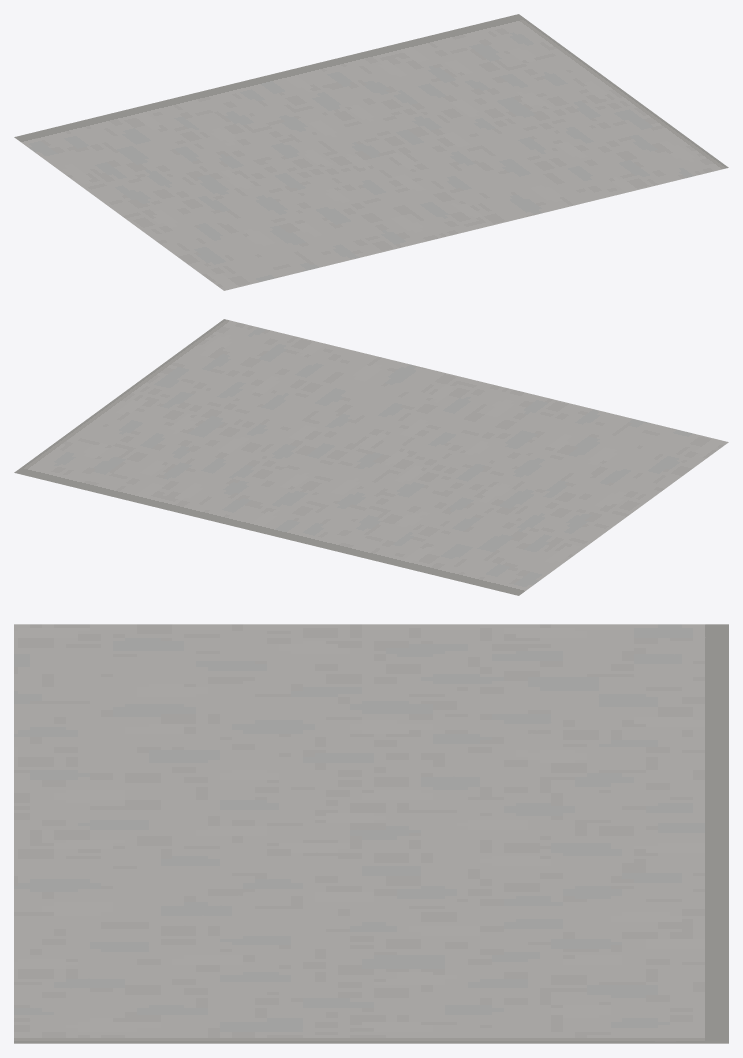
File: kd_stage_135d18_4_131_bounded_piece_6.glb
The picture shows the model from 3 angles, top to bottom: view 1: azimuth 30°, elevation 25°; view 2: azimuth 150°, elevation 25°; view 3: azimuth 270°, elevation 25°; orthographic projection. The views are drawn at different scales.
Visible parts, largest first — view 1: kd_stage_135d18_4_131_bounded_piece_6; view 2: kd_stage_135d18_4_131_bounded_piece_6; view 3: kd_stage_135d18_4_131_bounded_piece_6.
Boxes of the visible parts, left/top/right/bottom form: kd_stage_135d18_4_131_bounded_piece_6: left=14, top=14, right=728, bottom=290; kd_stage_135d18_4_131_bounded_piece_6: left=14, top=319, right=728, bottom=595; kd_stage_135d18_4_131_bounded_piece_6: left=14, top=624, right=728, bottom=1043.
Bounding box in the file's own units: 1.15 × 1.79e-07 × 0.828.
Materials: 1 (1 with a texture image).
